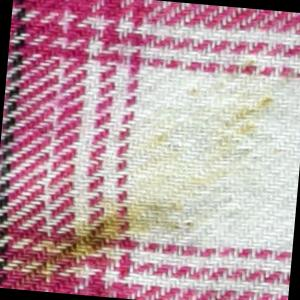Oil Stain: (1, 36, 285, 300)
